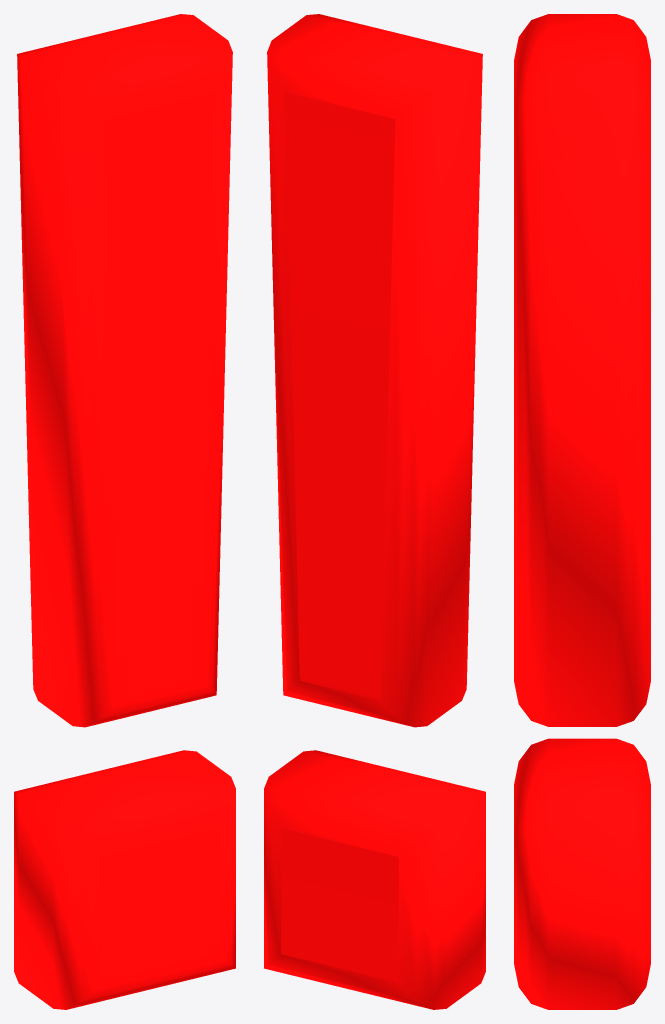
Rendered from d12aafd7-9ab4-4e5b-bcdf-52553a31d91d.glb.
3 views of the same model, side by side, from view 1: azimuth 30°, elevation 25°; view 2: azimuth 150°, elevation 25°; view 3: azimuth 270°, elevation 25° (orthographic).
Parts seen in each view (by area): view 1: IndicatorExclamationPointRed; view 2: IndicatorExclamationPointRed; view 3: IndicatorExclamationPointRed.
Boxes of the visible parts, <box> form: IndicatorExclamationPointRed: <box>14,14,235,1009</box>; IndicatorExclamationPointRed: <box>264,14,485,1009</box>; IndicatorExclamationPointRed: <box>514,14,650,1009</box>.
Bounding box in the file's own units: 0.0953 × 0.4743 × 0.0645.
Materials: 1 (1 with a texture image).
